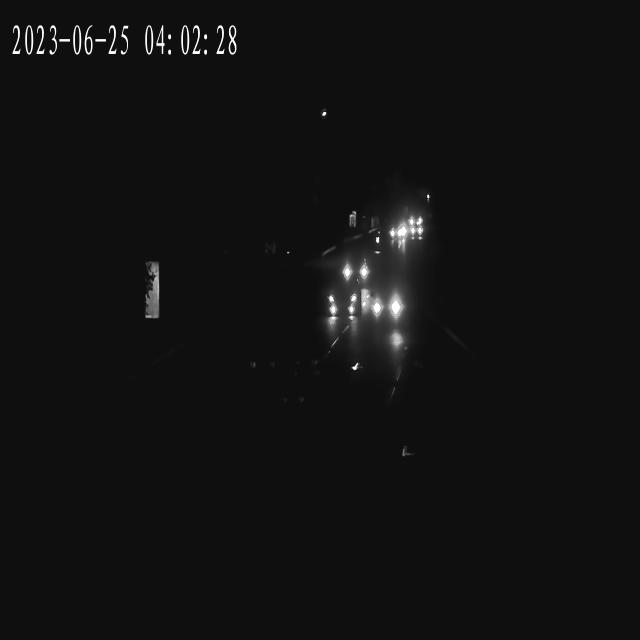Car: (363, 282, 408, 324), (338, 250, 378, 286), (327, 283, 359, 318), (386, 222, 405, 242), (388, 225, 407, 243), (407, 213, 425, 229)
